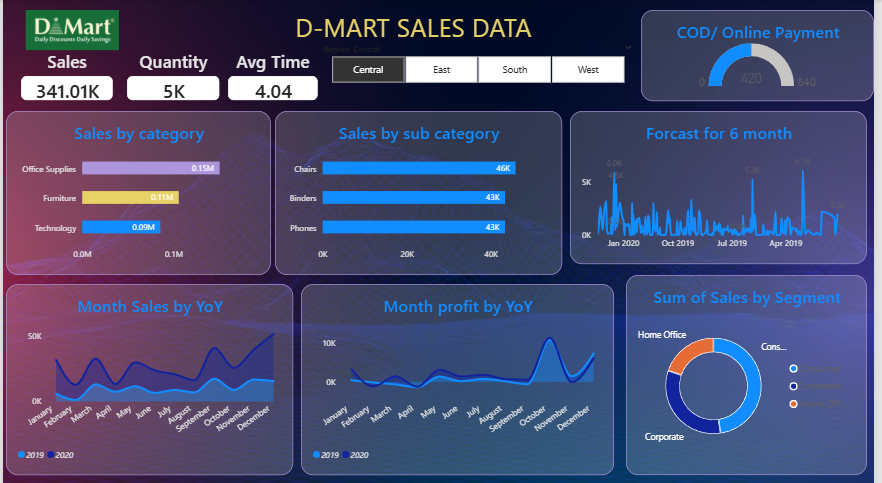

What the dashboard file says about the page in this screenshot:
{"tool":"powerbi","page":{"name":"Page 1","canvas":[1280,720],"ordinal":0},"visuals":[{"type":"clusteredBarChart","title":"Sales by category","fields":{"Category":["SuperStore_Sales_Dataset.Category"],"Y":["Sum(SuperStore_Sales_Dataset.Sales)"]},"box":[4.4,164.6,389.4,241],"z":0},{"type":"clusteredBarChart","title":"Sales by sub category","fields":{"Category":["SuperStore_Sales_Dataset.Sub-Category"],"Y":["Sum(SuperStore_Sales_Dataset.Sales)"]},"box":[399.7,164.6,421.7,241],"z":1000},{"type":"stackedAreaChart","title":"Month  Sales by YoY","fields":{"Category":["SuperStore_Sales_Dataset.Order Date.Variation.Date Hierarchy.Month","SuperStore_Sales_Dataset.Order Date.Variation.Date Hierarchy.Day"],"Series":["SuperStore_Sales_Dataset.Order Date.Variation.Date Hierarchy.Year"],"Y":["Sum(SuperStore_Sales_Dataset.Sales)"]},"box":[4.4,418.8,421.7,280.7],"z":3000},{"type":"stackedAreaChart","title":"Month  profit by YoY","fields":{"Category":["SuperStore_Sales_Dataset.Order Date.Variation.Date Hierarchy.Month","SuperStore_Sales_Dataset.Order Date.Variation.Date Hierarchy.Day"],"Series":["SuperStore_Sales_Dataset.Order Date.Variation.Date Hierarchy.Year"],"Y":["Sum(SuperStore_Sales_Dataset.Profit)"]},"box":[437.9,418.8,459.9,280.7],"z":4000},{"type":"donutChart","fields":{"Category":["SuperStore_Sales_Dataset.Segment"],"Y":["Sum(SuperStore_Sales_Dataset.Sales)"]},"box":[915.4,405.6,354.1,293.9],"z":5000},{"type":"slicer","fields":{"Values":["SuperStore_Sales_Dataset.Region"]},"box":[462.9,64.7,468.7,60.2],"z":6000},{"type":"textbox","box":[58.8,16.2,1088.8,58.8],"z":7000},{"type":"cardVisual","title":"Sales","fields":{"Data":["Sum(SuperStore_Sales_Dataset.Sales)"]},"box":[26.4,74.9,135.2,74.9],"z":8000},{"type":"cardVisual","title":"Quantity","fields":{"Data":["Sum(SuperStore_Sales_Dataset.Quantity)"]},"box":[182.2,74.9,136.7,74.9],"z":9000},{"type":"cardVisual","title":"Avg  Time ","fields":{"Data":["Avg(SuperStore_Sales_Dataset.Avg Delivery)"]},"box":[330.6,74.9,132.2,74.9],"z":10000},{"type":"image","box":[4.4,16.2,195.4,58.8],"z":11000},{"type":"gauge","title":"COD/ Online Payment","fields":{"Y":["CountNonNull(SuperStore_Sales_Dataset.Payment Mode)"]},"box":[937.5,16.2,342.4,133.7],"z":12000},{"type":"lineChart","title":"Forcast for 6 month","fields":{"Category":["SuperStore_Sales_Dataset.Order Date"],"Y":["Sum(SuperStore_Sales_Dataset.Sales)"]},"box":[833.1,164.6,436.4,224.8],"z":12001}]}

Visuals, with their boxes in screenshot pixels (x1, y1, x2, y2), scaled from the page's 1280x720 canvas onto the 882x483 screenshot:
"Sales by category" clusteredBarChart: 3,110,271,272
"Sales by sub category" clusteredBarChart: 275,110,566,272
"Month  Sales by YoY" stackedAreaChart: 3,281,294,469
"Month  profit by YoY" stackedAreaChart: 302,281,619,469
donutChart - SuperStore_Sales_Dataset.Segment x Sum(SuperStore_Sales_Dataset.Sales): 631,272,875,469
slicer - SuperStore_Sales_Dataset.Region: 319,43,642,84
textbox: 41,11,791,50
"Sales" cardVisual: 18,50,111,100
"Quantity" cardVisual: 126,50,220,100
"Avg  Time " cardVisual: 228,50,319,100
image: 3,11,138,50
"COD/ Online Payment" gauge: 646,11,881,101
"Forcast for 6 month" lineChart: 574,110,875,261
